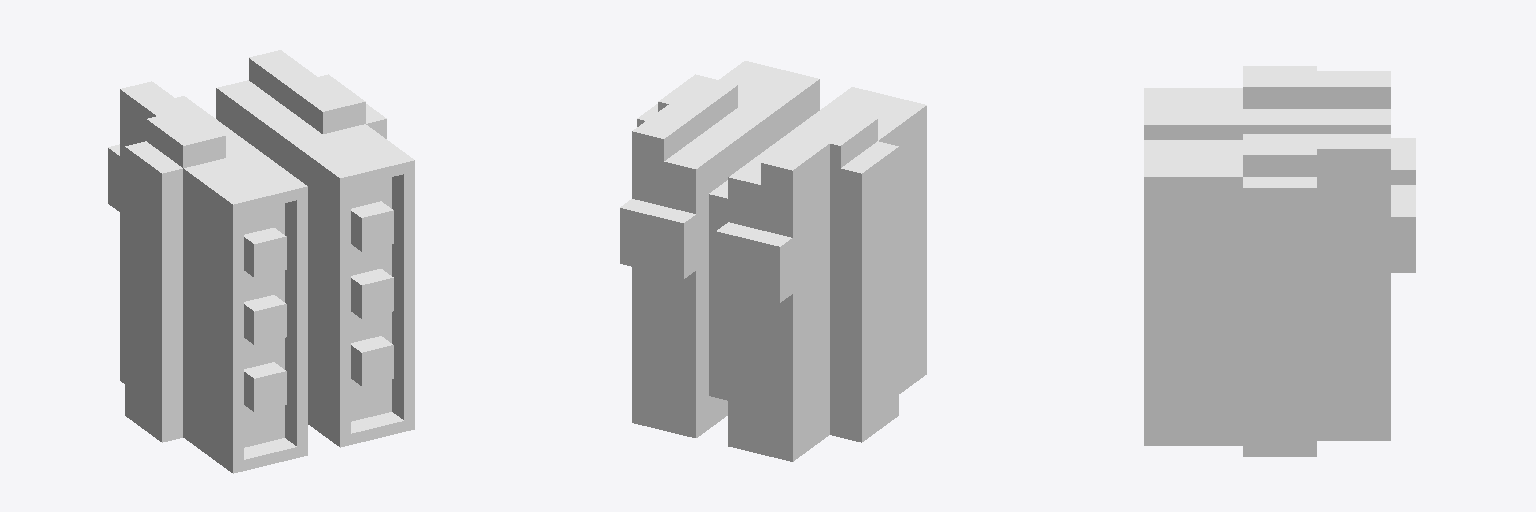
File: MultiShotTower1_Top.obj
3 views of the same model, side by side, from view 1: azimuth 30°, elevation 25°; view 2: azimuth 150°, elevation 25°; view 3: azimuth 270°, elevation 25° (orthographic).
Parts seen in each view (by area): view 1: MultiShotTower1_Top; view 2: MultiShotTower1_Top; view 3: MultiShotTower1_Top.
Part boxes in pixels (x1,y1,x2,y2): MultiShotTower1_Top: (108, 50, 414, 473); MultiShotTower1_Top: (620, 61, 926, 461); MultiShotTower1_Top: (1144, 66, 1415, 456).
Bounding box in the file's own units: 21 × 26 × 22.